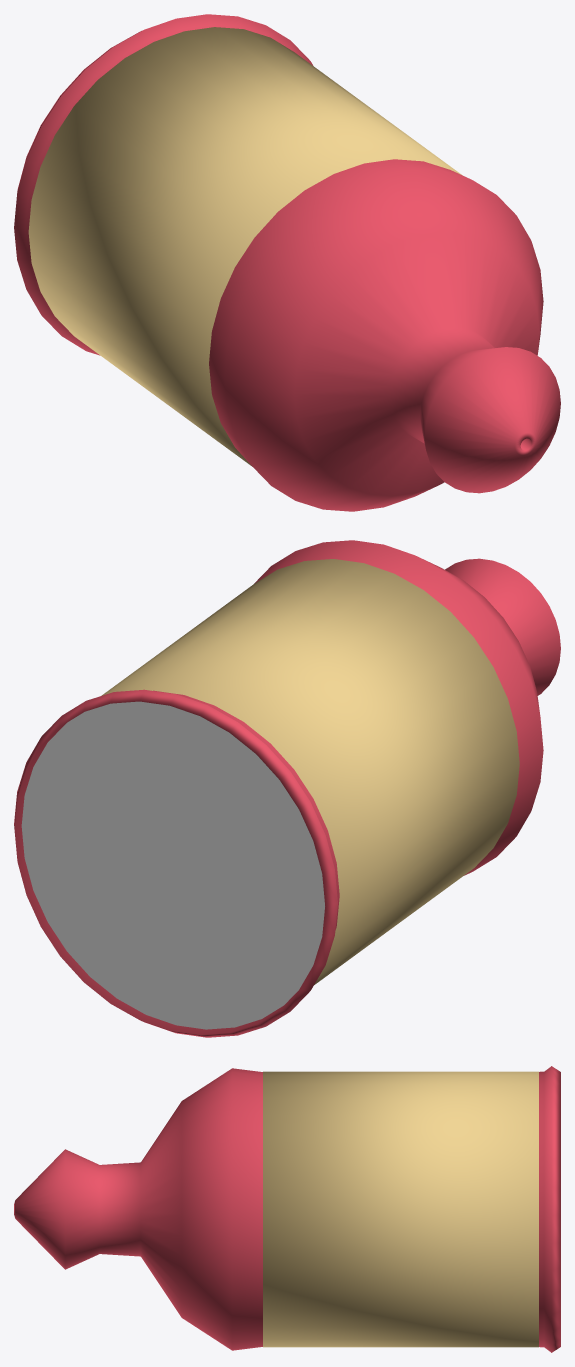
File: Party popper.fbx
The picture shows the model from 3 angles, top to bottom: view 1: azimuth 30°, elevation 25°; view 2: azimuth 150°, elevation 25°; view 3: azimuth 270°, elevation 25°; orthographic projection. The views are drawn at different scales.
Visible parts, largest first — view 1: Popper, Cylinder; view 2: Cylinder, Cap, Popper; view 3: Cylinder, Popper.
Boxes of the visible parts, left/top/right/bottom form: Popper: left=14, top=14, right=560, bottom=511; Cylinder: left=28, top=27, right=462, bottom=466; Cylinder: left=101, top=559, right=519, bottom=984; Cap: left=21, top=701, right=324, bottom=1029; Popper: left=14, top=540, right=560, bottom=1037; Cylinder: left=263, top=1071, right=538, bottom=1347; Popper: left=14, top=1066, right=560, bottom=1352.
Size of the model in its own units: 72.79 by 72.79 by 139.
